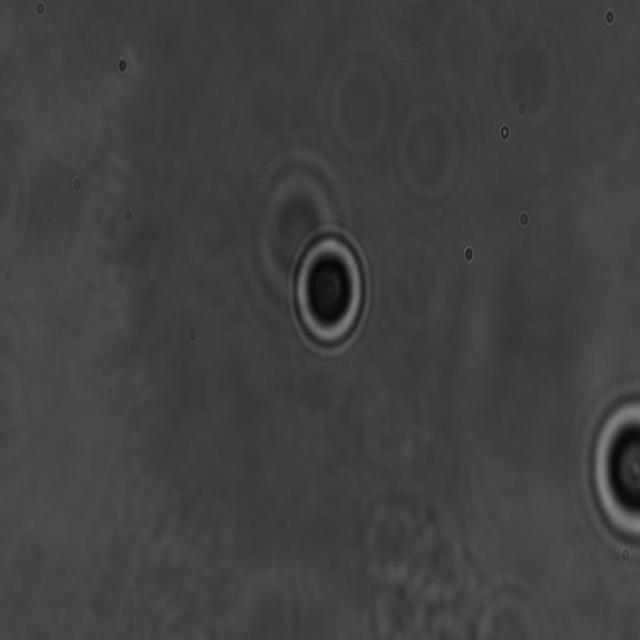DCELL: (287, 220, 371, 358)
